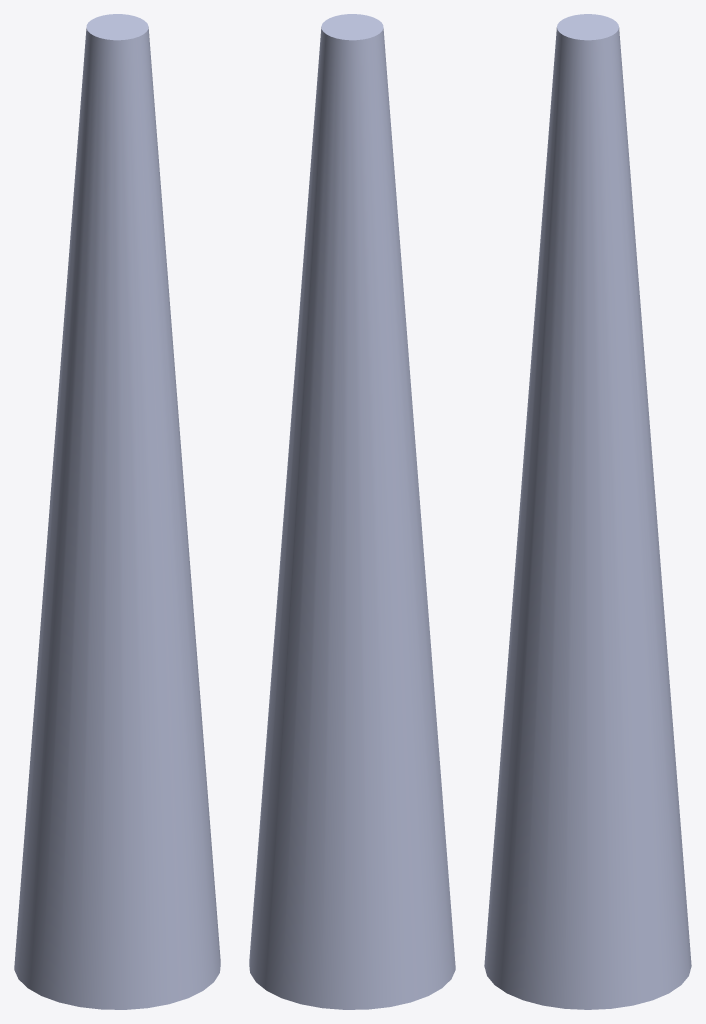
Rendered from RedBull pylon.fbx.
3 views of the same model, side by side, from view 1: azimuth 30°, elevation 25°; view 2: azimuth 150°, elevation 25°; view 3: azimuth 270°, elevation 25° (orthographic).
Visible parts, largest first — view 1: color; view 2: color; view 3: color.
Boxes of the visible parts, x1,y1,x2,y2 form: color: (14,14,220,1009); color: (249,14,455,1009); color: (484,14,691,1009).
Size of the model in its own units: 500 by 2500 by 500.
